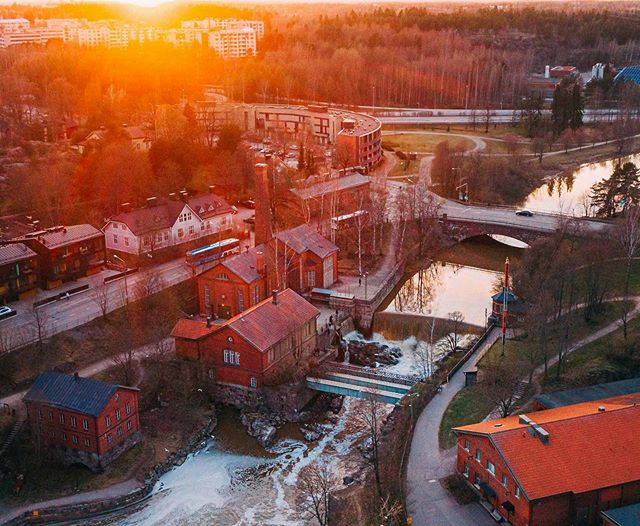bridge: (436, 171, 580, 265)
building: (466, 391, 640, 526), (204, 223, 347, 314), (174, 299, 317, 390), (207, 98, 383, 171), (17, 375, 142, 457), (96, 195, 236, 261), (1, 222, 105, 285), (155, 17, 263, 61), (71, 13, 139, 60), (1, 9, 68, 56)
river: (132, 237, 511, 526), (536, 156, 640, 215)
vegetation: (275, 1, 640, 93)
